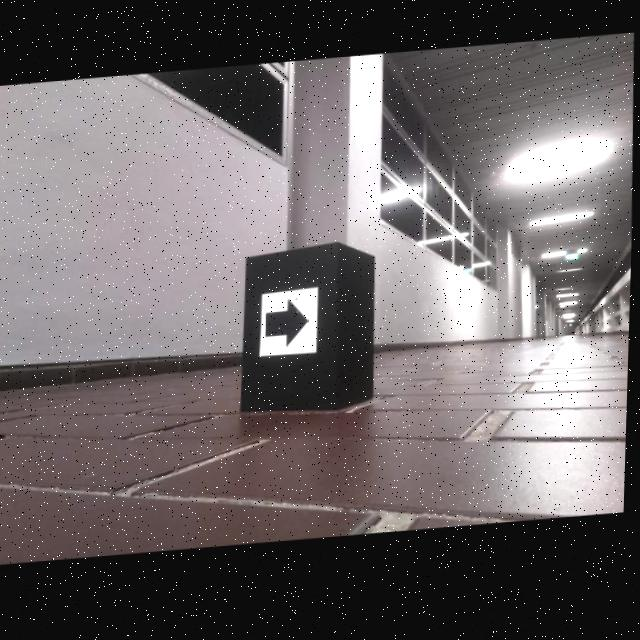RIGHT: (268, 302, 309, 350)
